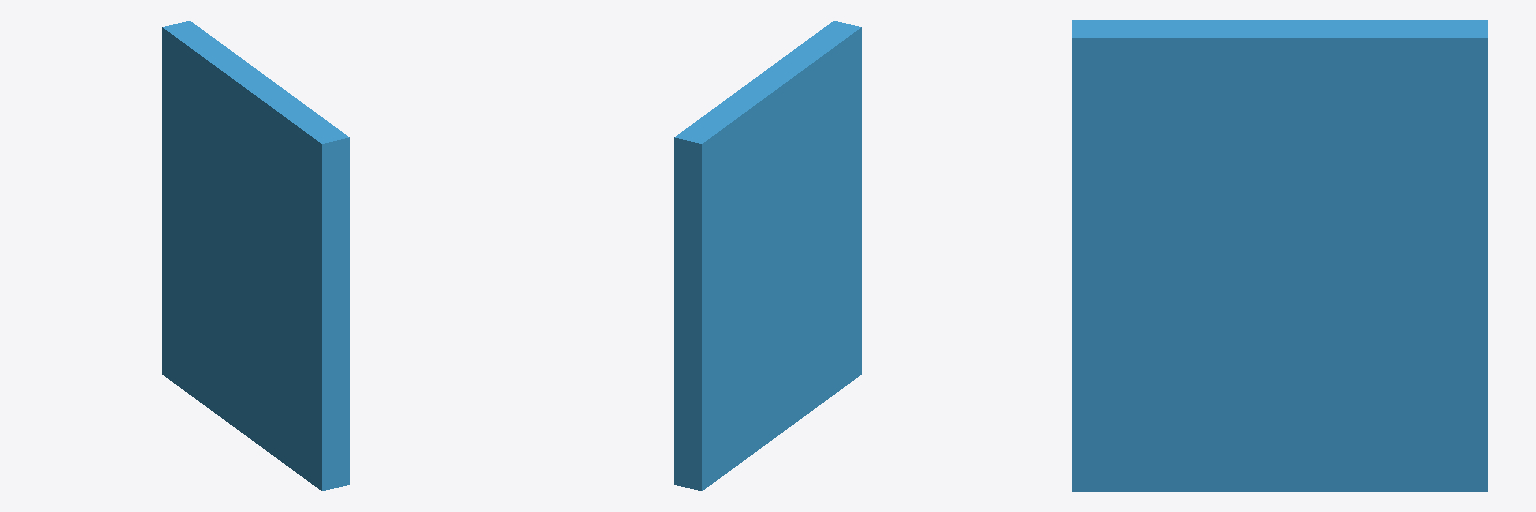
URDF robot description (myfirst):
<?xml version="1.0"?>
    <robot name="myfirst">

  

    
      <link name="base_link">
        </link>



    <link name="door">
        <visual>
         <geometry>
             <box size="0.6 0.5 0.05"/>
         </geometry>   
         <origin rpy="0.0 1.57075 0.0" xyz="0.0 0.25 0.0"/>
        </visual>
        <collision>
            <geometry>
             <box size="0.6 0.5 0.05"/>
         </geometry>   
         <origin rpy="0.0 1.57075 0.0" xyz="0.0 0.25 0.0"/>
        </collision>
     
       
    </link>

    <joint name="base_to_door" type="revolute">
        <parent link="base_link"/>
        <child link="door"/>
        <origin xyz="0.4 -0.25 0.3"/>
        <axis xyz="0.0 0.0 1"/>
        <limit lower="-1.60" upper="0.0" effort="0.05" velocity="1.57"/>
    </joint>

    </robot>

--- Facts derived from the render (not from the file) ---
3 views of the same robot in one strip: view 1: azimuth 30°, elevation 25°; view 2: azimuth 150°, elevation 25°; view 3: azimuth 270°, elevation 25° (orthographic).
Model myfirst with 2 links and 1 joints (1 revolute), rooted at base_link, posed every joint at zero.
Visible links, largest first — view 1: door; view 2: door; view 3: door.
Link boxes in pixels (x1,y1,x2,y2): door: (162, 21, 349, 490); door: (674, 21, 861, 490); door: (1072, 20, 1487, 491).
Bounding box of the posed robot: 0.05 × 0.5 × 0.6 m (x, y, z).
Geometry: primitives only (box / cylinder / sphere), no mesh files.
